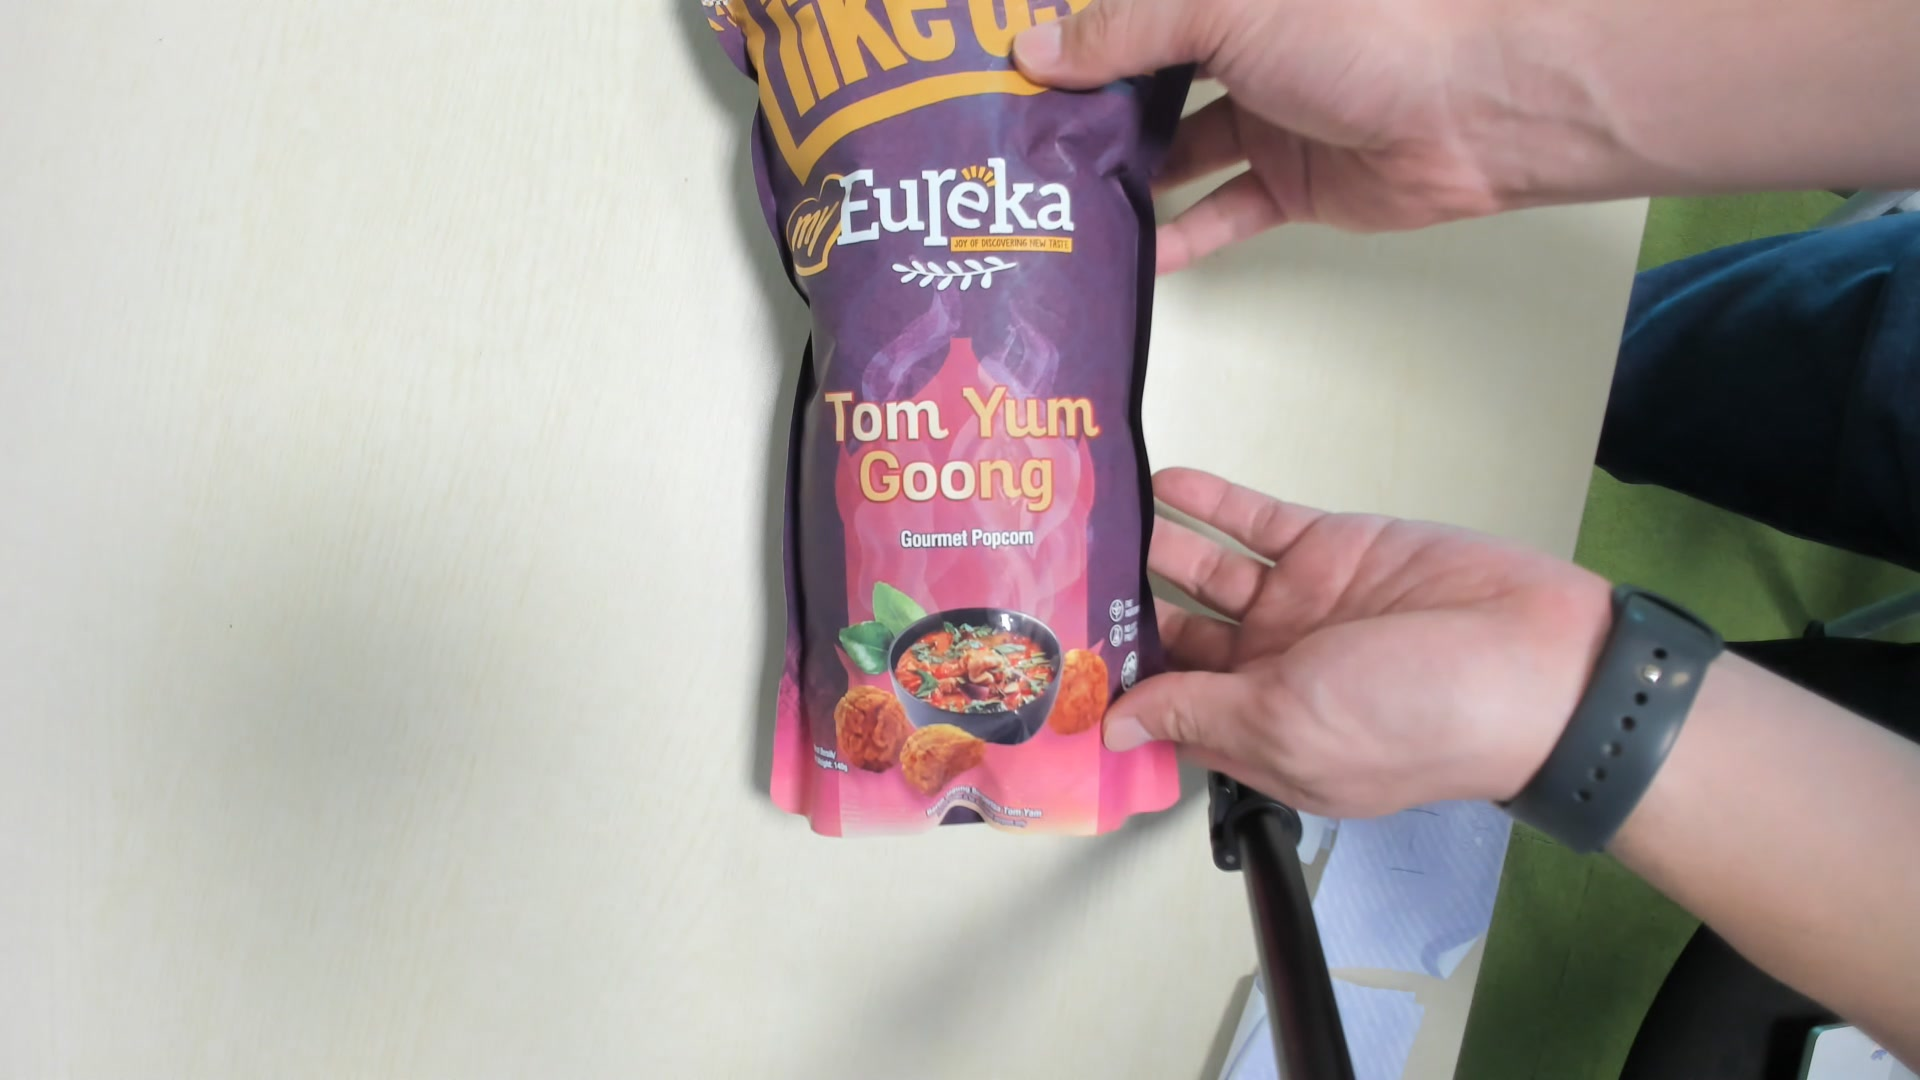PotatoChipsKeropok_100-199g_Halal_NonHealthy: (720, 7, 1184, 852)
